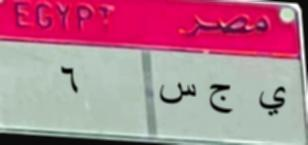6: (55, 60, 87, 100)
jeem: (205, 82, 238, 122)
seen: (156, 78, 198, 110)
yaa: (257, 82, 290, 120)
